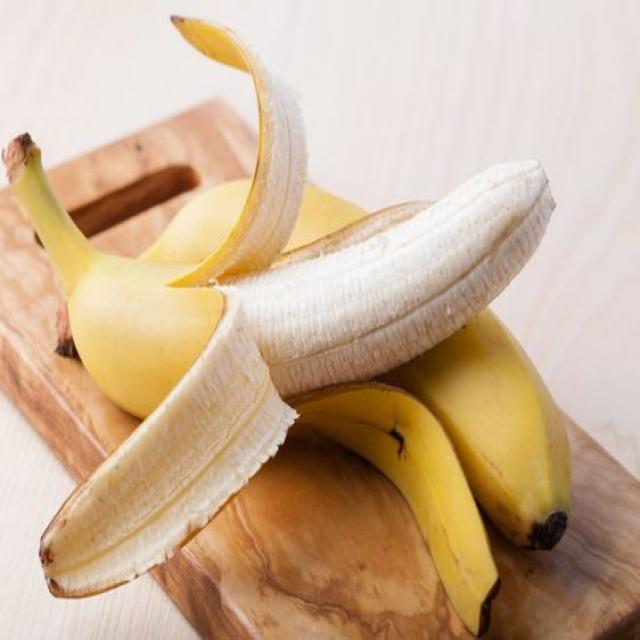banana_peel: (2, 6, 607, 625)
